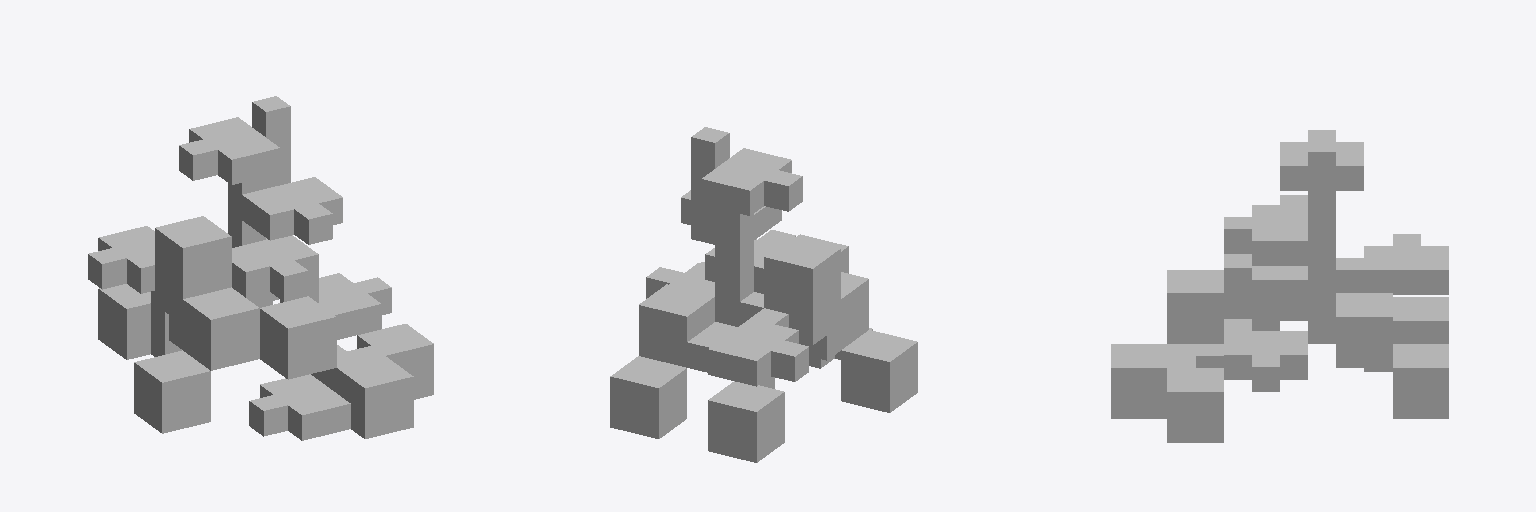
The model's file is 1_4 pit.obj.
3 renders of one model, left to right at view 1: azimuth 30°, elevation 25°; view 2: azimuth 150°, elevation 25°; view 3: azimuth 270°, elevation 25°, orthographic.
Visible parts, largest first — view 1: object 1; view 2: object 1; view 3: object 1.
Part boxes in pixels (x1,y1,x2,y2): object 1: (88,96,433,440); object 1: (610,127,917,462); object 1: (1111,130,1448,442).
Bounding box in the file's own units: 1 × 1 × 1.2.